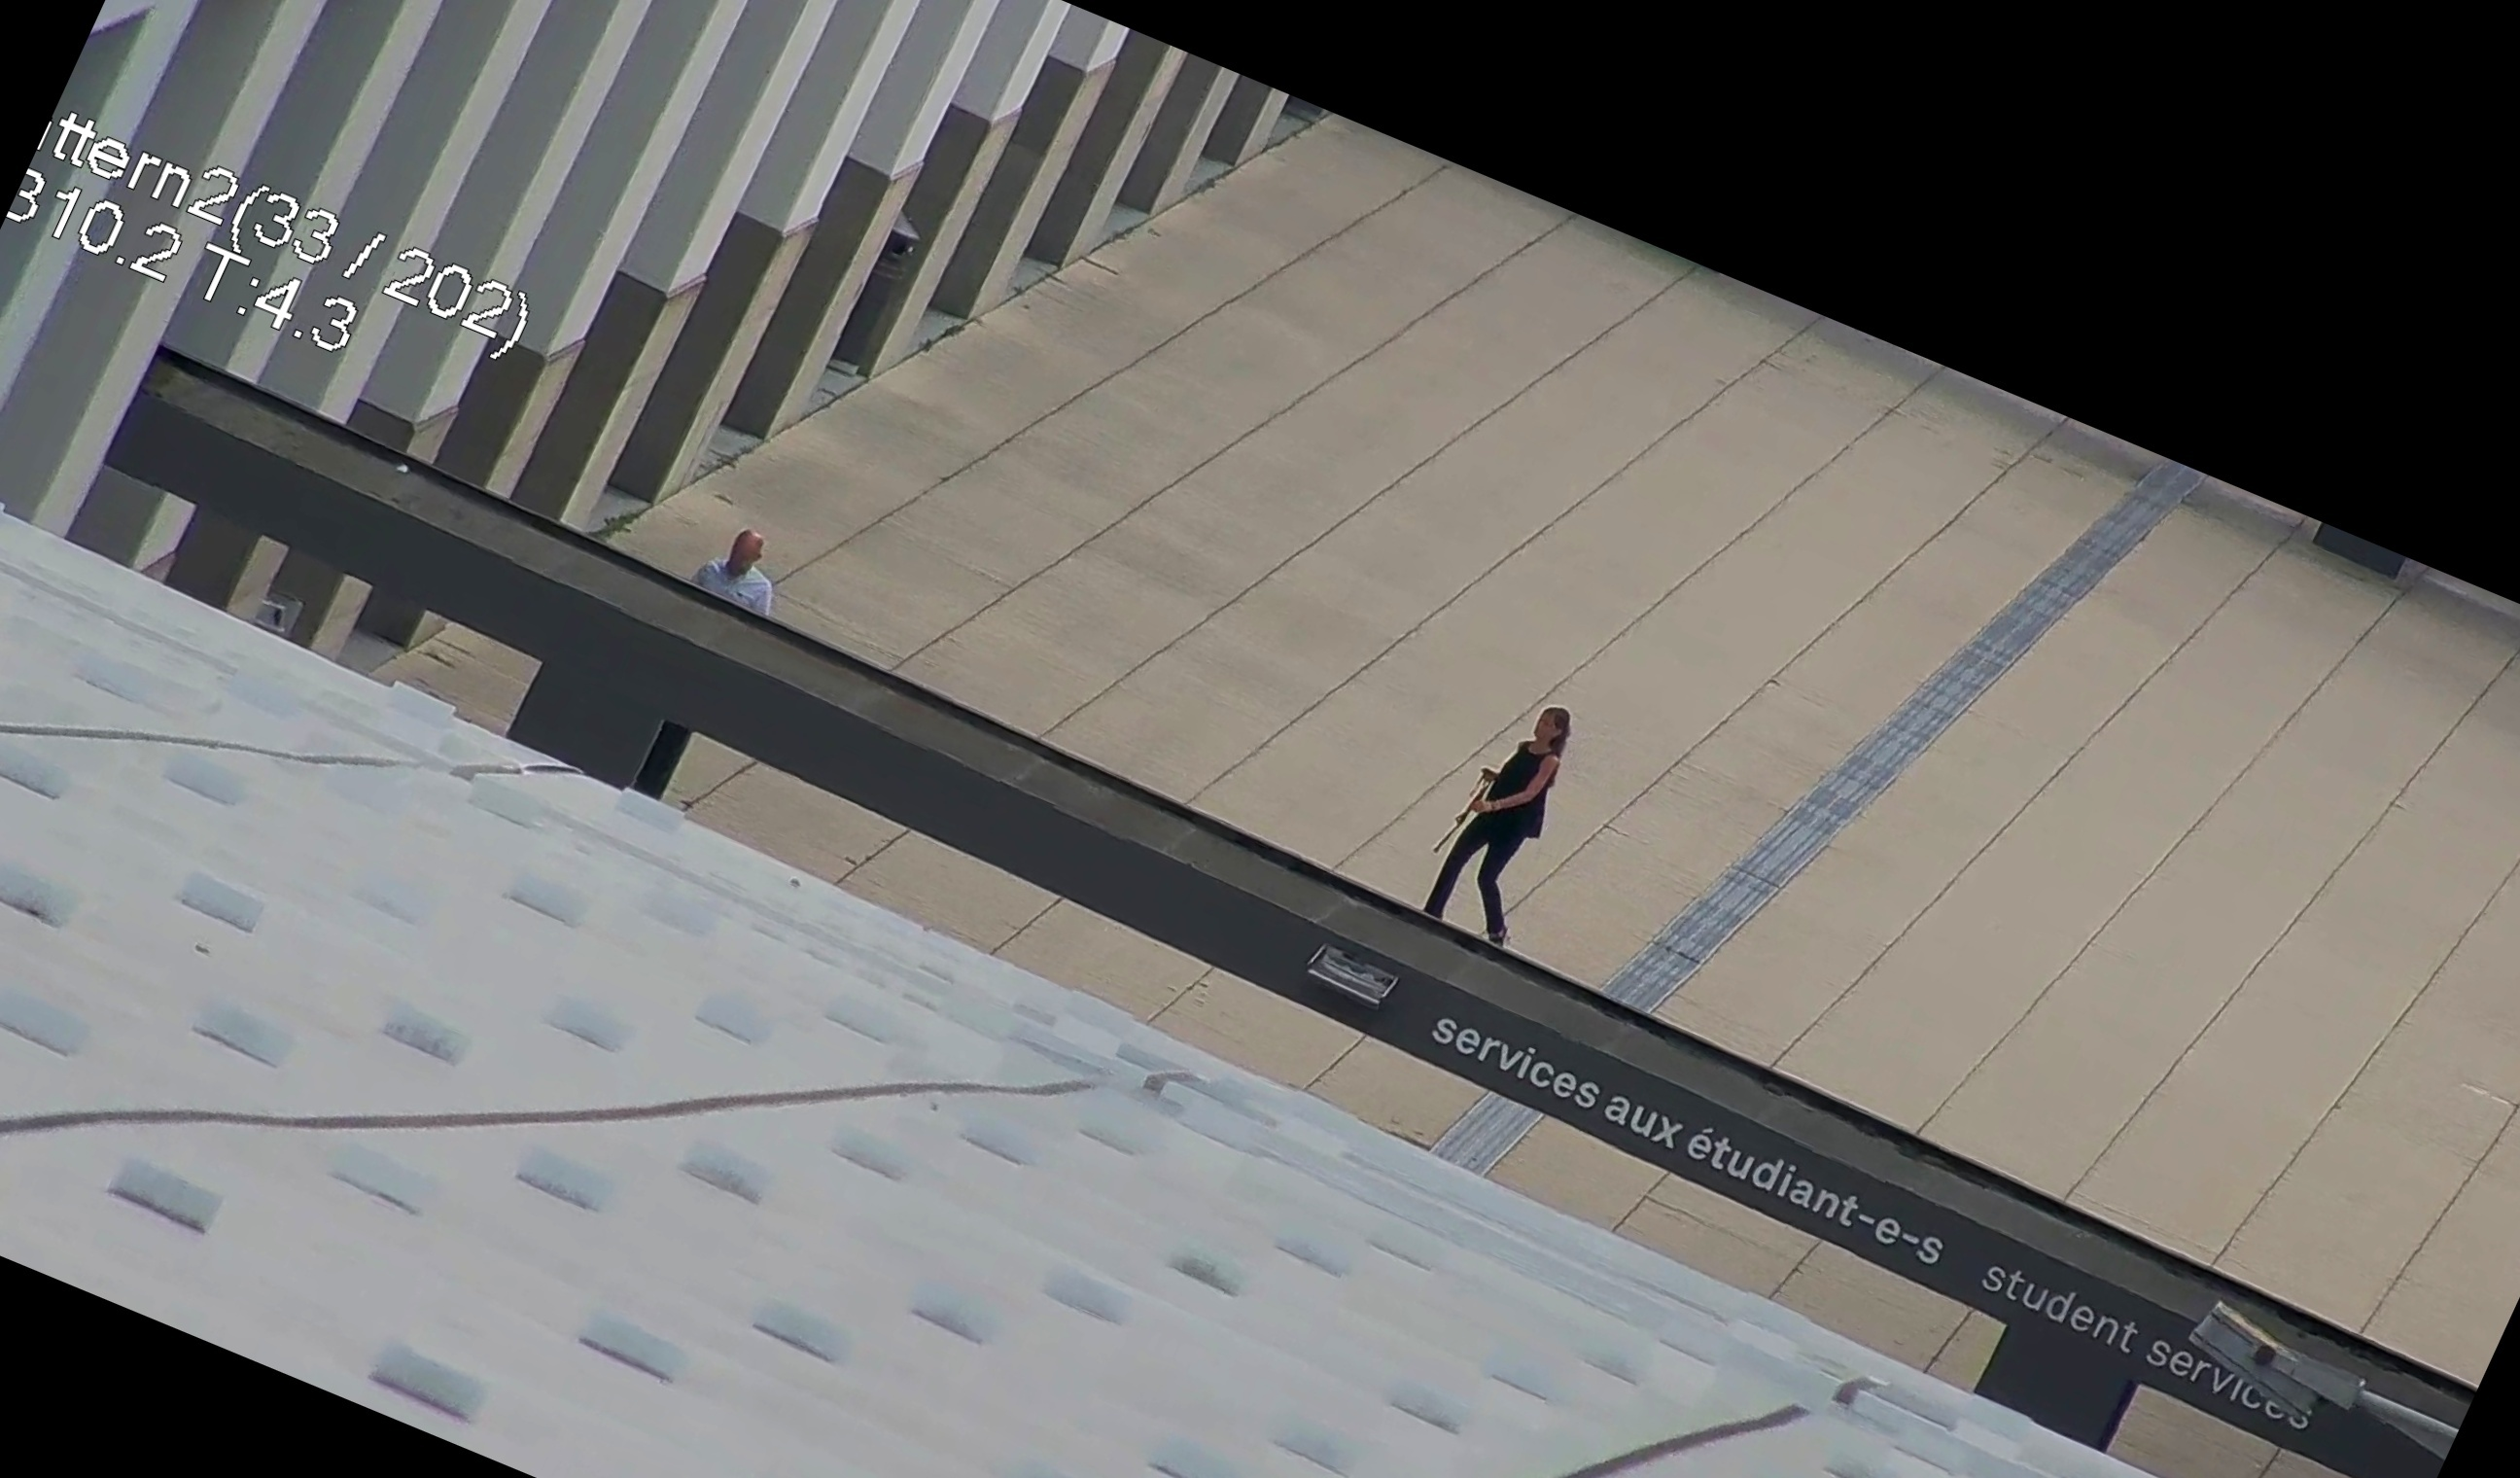Other: (677, 501, 798, 621)
